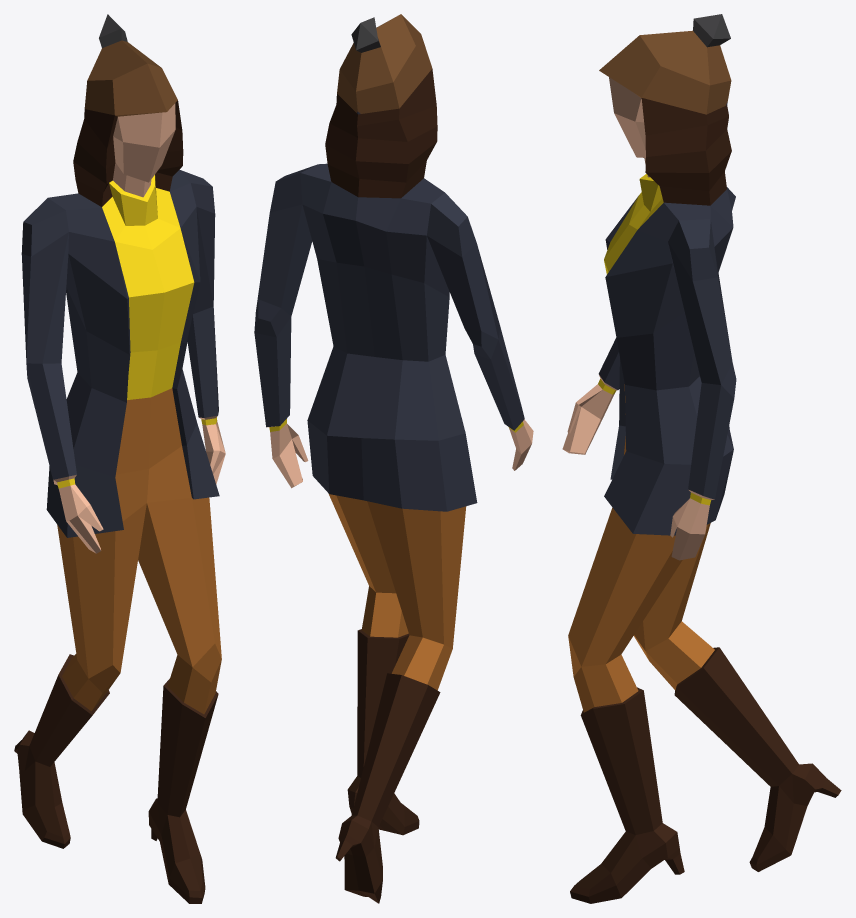
Rendered from AutumnWomanB.003.glb.
The picture shows the model from 3 angles, left to right: view 1: azimuth 30°, elevation 25°; view 2: azimuth 150°, elevation 25°; view 3: azimuth 270°, elevation 25°; orthographic projection. The views are drawn at different scales.
Visible parts, largest first — view 1: AutumnWomanB.003; view 2: AutumnWomanB.003; view 3: AutumnWomanB.003.
Boxes of the visible parts, x1,y1,x2,y2 form: AutumnWomanB.003: (14,14,225,903); AutumnWomanB.003: (254,14,533,903); AutumnWomanB.003: (562,14,841,903).
Size of the model in its own units: 0.4569 by 1.74 by 0.5045.
Materials: 1 (1 with a texture image).
